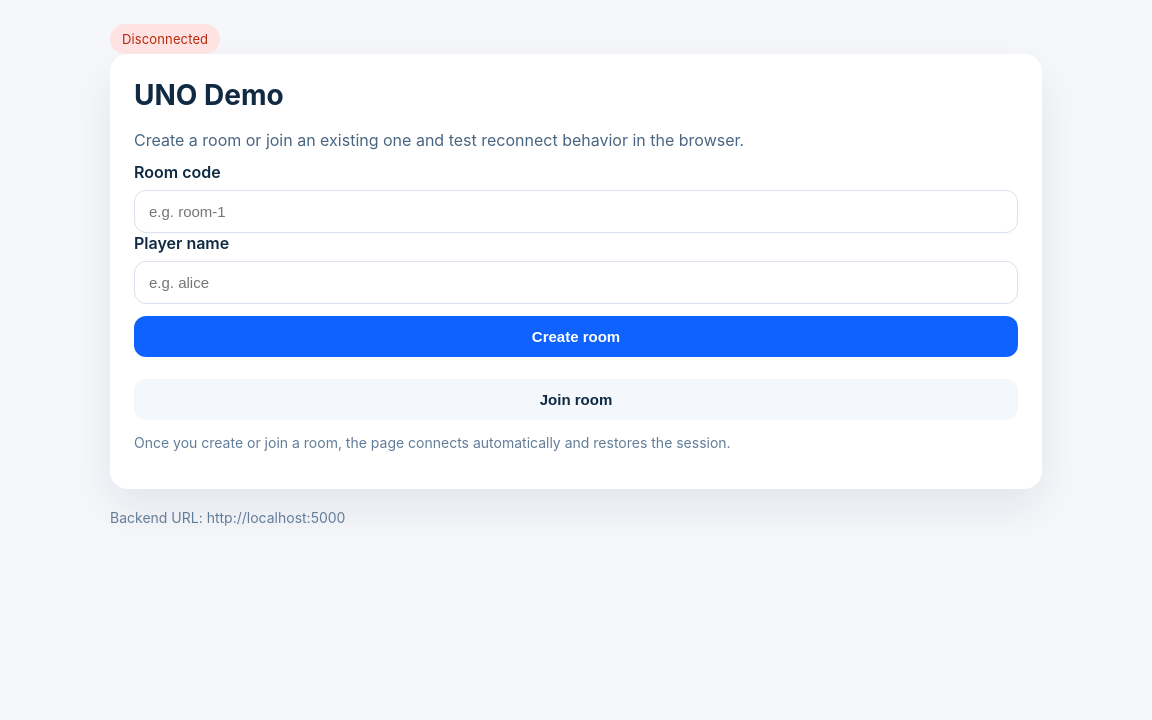
Test: frontend contract and recovery flow › shows game over message and disables game actions
In the field with placeholder "e.g. room-1": [576, 212] box [134,190,1018,233], type "room-1"
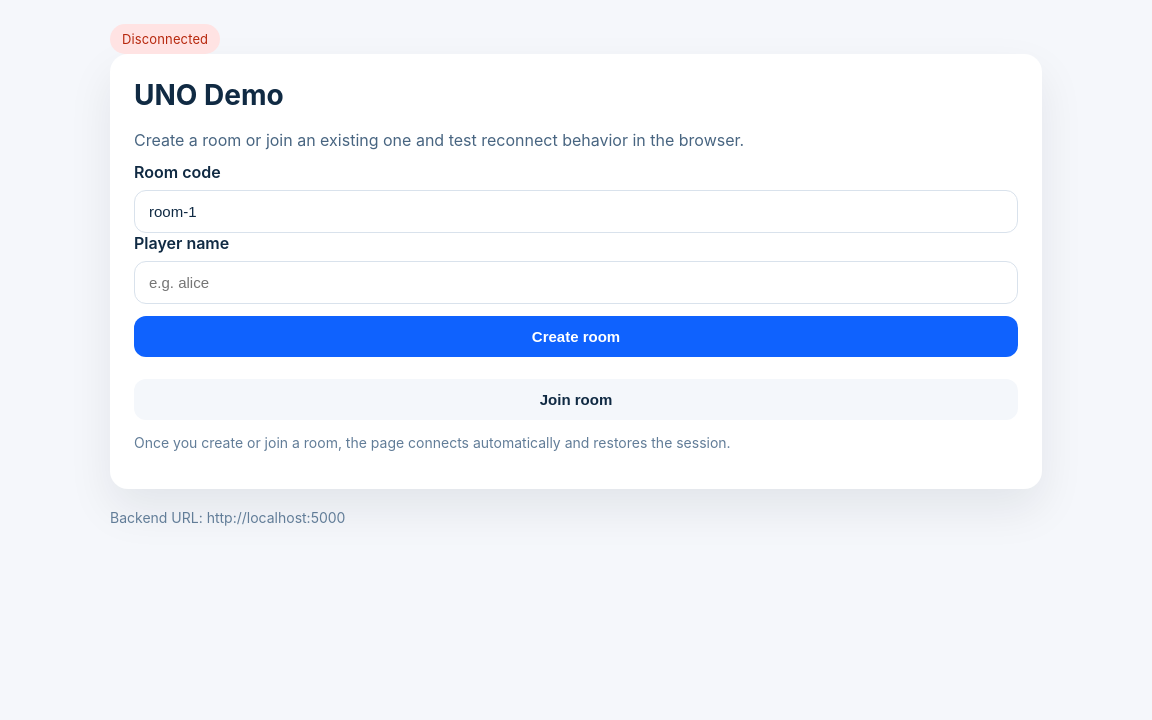
In the field with placeholder "e.g. alice": [576, 282] box [134,261,1018,304], type "Alice"
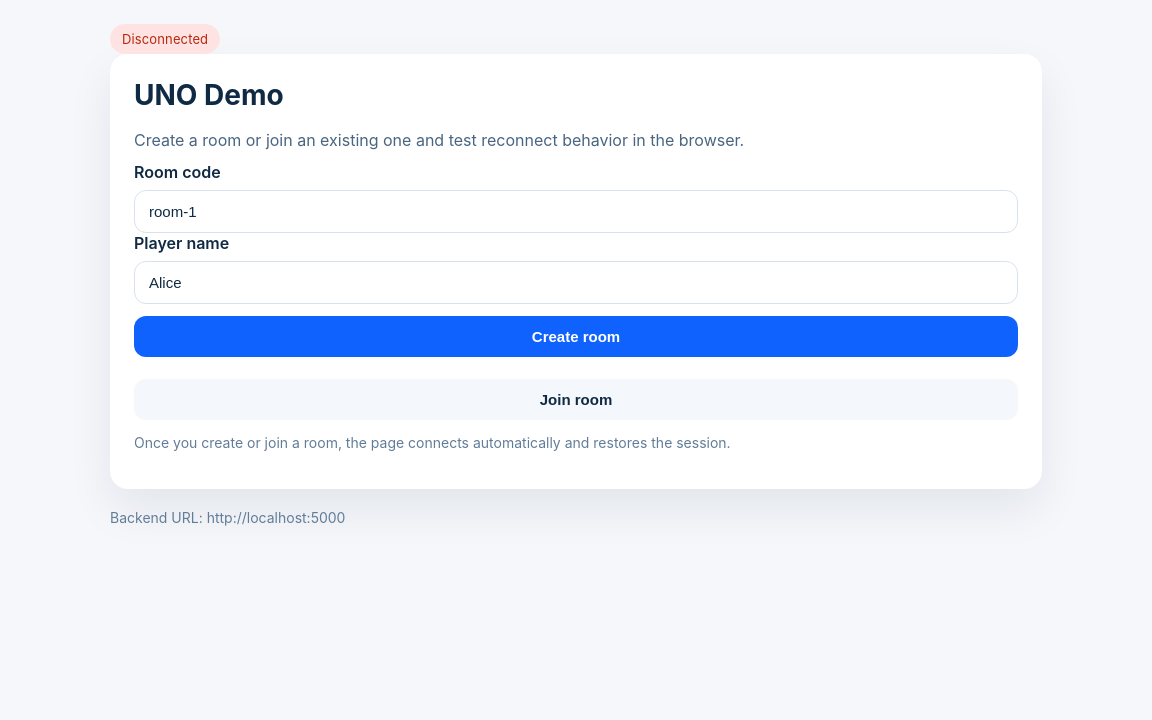
Click the button "Create room": [576, 336] box [134,316,1018,357]
(page scrolled)
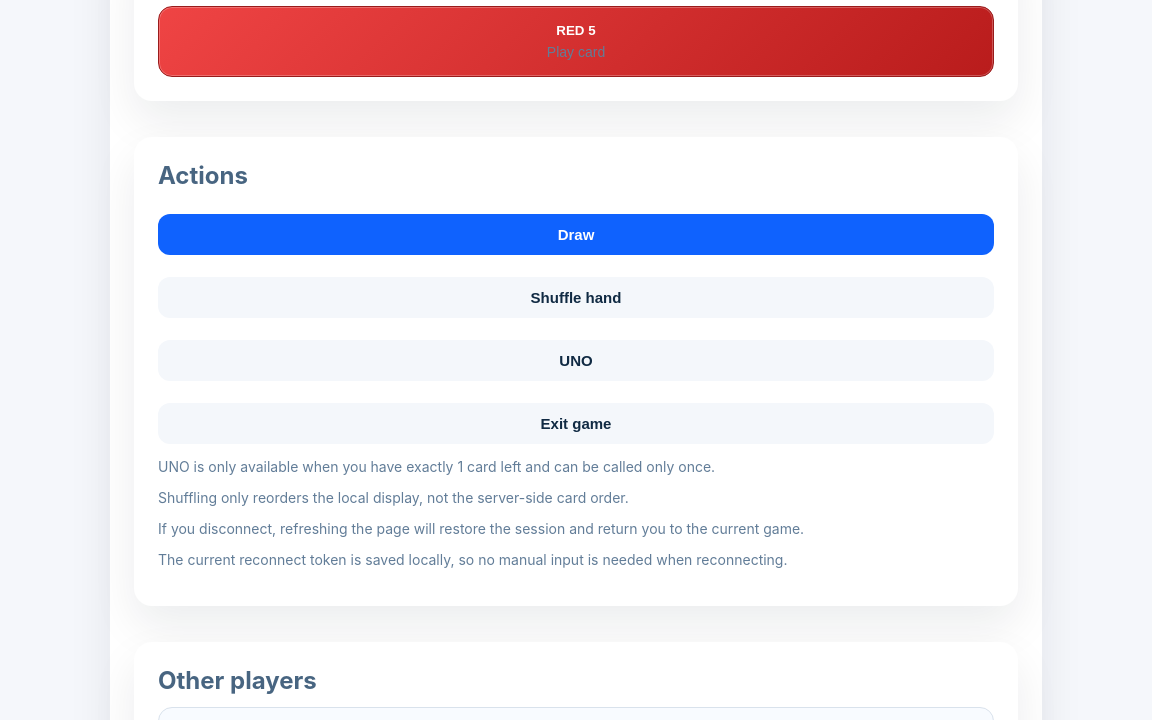
Expected: the button "Draw" is disabled, [158,214,994,255]
Expected: the button "UNO" is disabled, [158,340,994,381]
